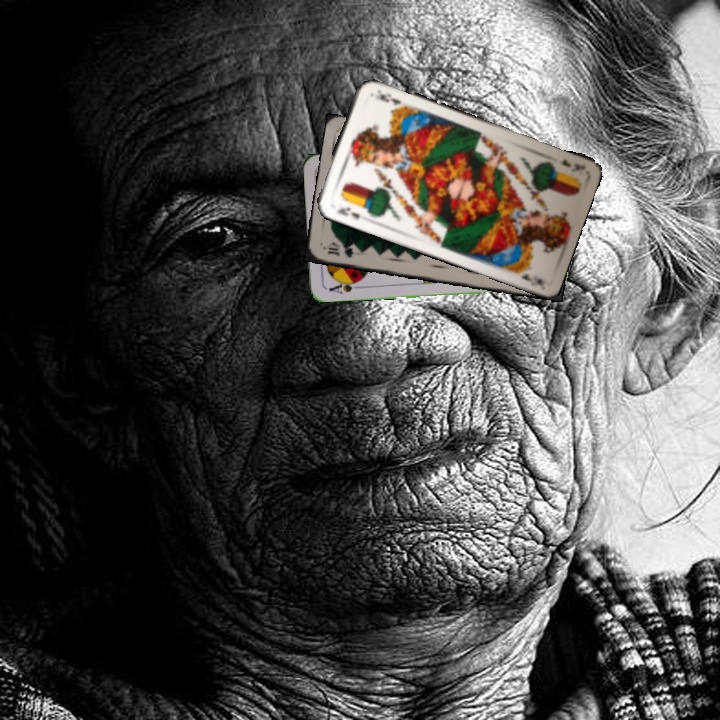EK: (555, 155, 587, 174), (332, 203, 362, 222)
G10: (324, 240, 356, 260)
SA: (325, 276, 364, 296)
